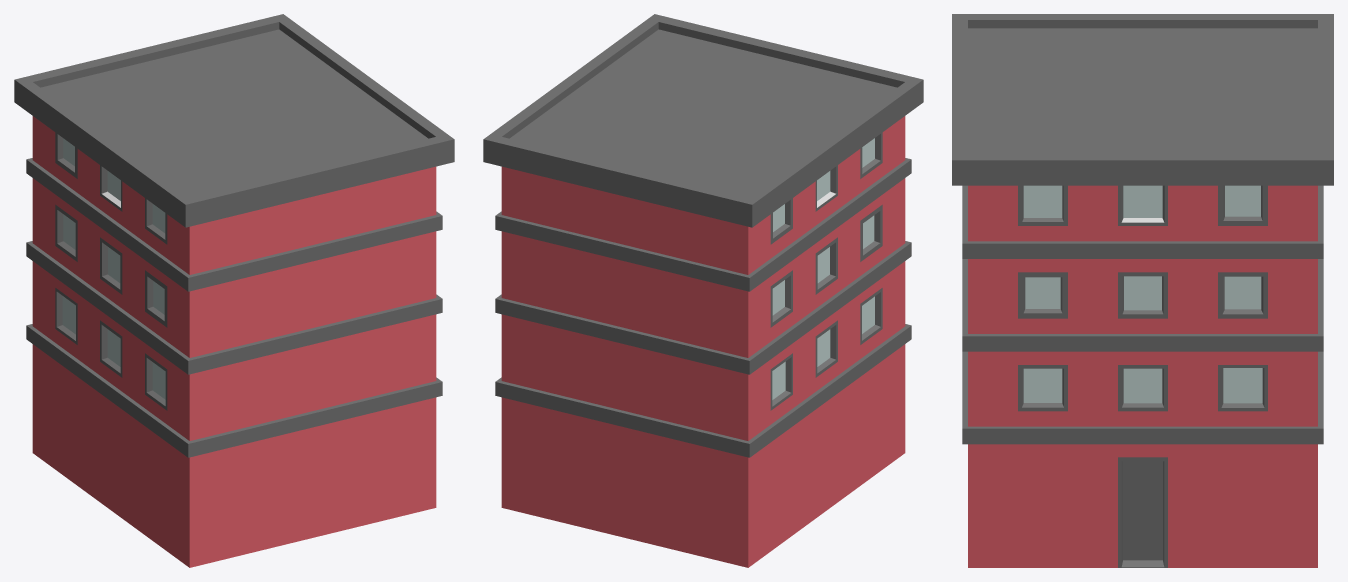
Rendered from NewBuilding.fbx.
3 views of the same model, side by side, from view 1: azimuth 30°, elevation 25°; view 2: azimuth 150°, elevation 25°; view 3: azimuth 270°, elevation 25° (orthographic). The views are drawn at different scales.
Visible parts, largest first — view 1: pCube6; view 2: pCube6; view 3: pCube6.
Part boxes in pixels (x1=…): pCube6: x1=14, y1=14, x2=454, y2=567; pCube6: x1=483, y1=14, x2=923, y2=567; pCube6: x1=952, y1=14, x2=1333, y2=567.
Size of the model in its own units: 16.81 by 22.17 by 18.53.
